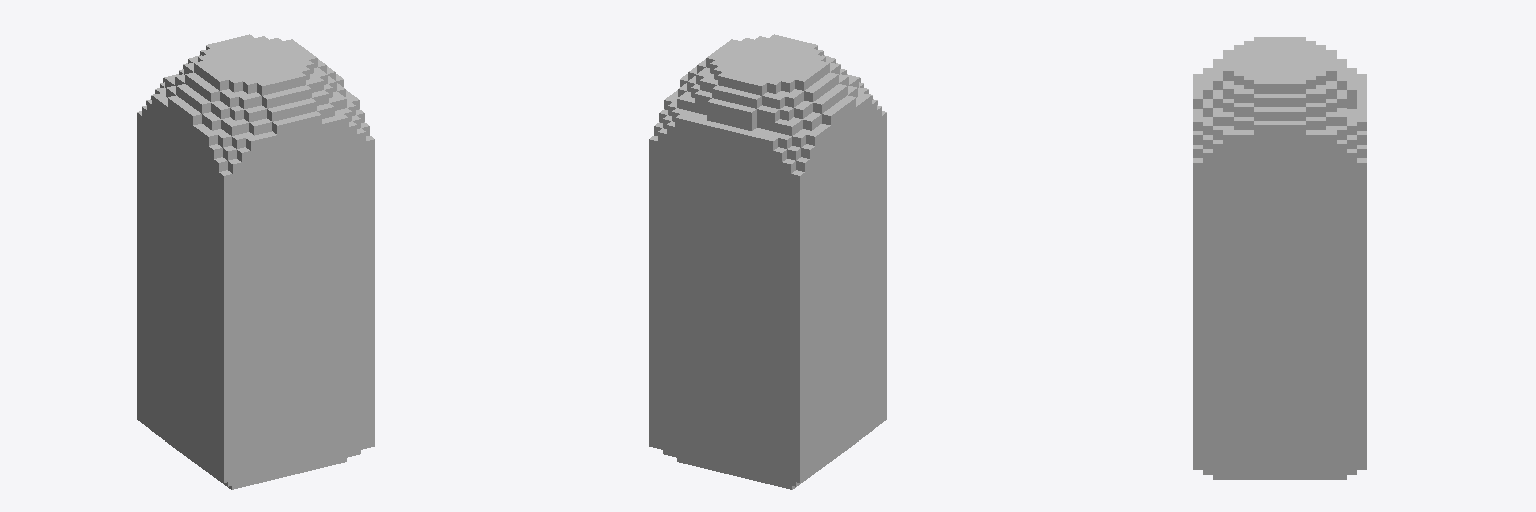
The model's file is Salt.obj.
The picture shows the model from 3 angles: view 1: azimuth 30°, elevation 25°; view 2: azimuth 150°, elevation 25°; view 3: azimuth 270°, elevation 25°; orthographic projection.
Parts seen in each view (by area): view 1: Salt; view 2: Salt; view 3: Salt.
Part boxes in pixels (left/top/right/bottom): Salt: left=137, top=34, right=374, bottom=489; Salt: left=649, top=34, right=886, bottom=489; Salt: left=1193, top=37, right=1366, bottom=479.
Bounding box in the file's own units: 17 × 42 × 17.